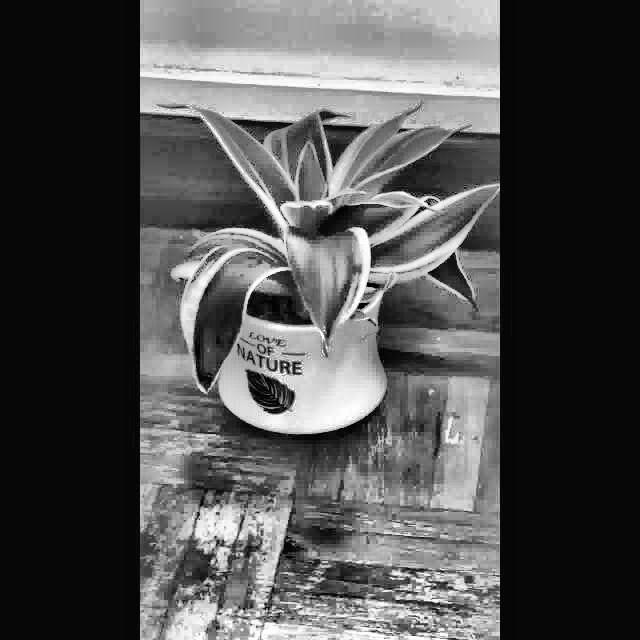plants: (140, 92, 500, 452)
